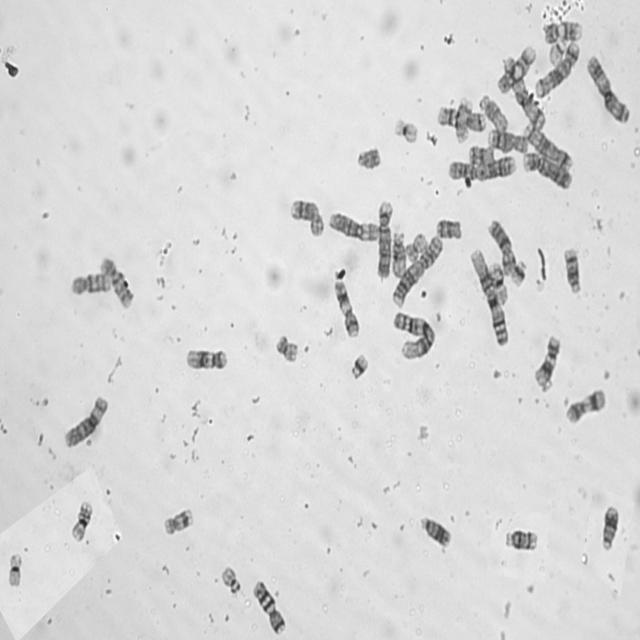A1: (468, 244, 510, 347), (390, 307, 437, 361)
A2: (390, 233, 444, 308), (446, 153, 518, 183)
A3: (501, 53, 547, 132), (584, 52, 632, 125)
B4: (521, 149, 574, 192), (374, 197, 395, 280)
B5: (520, 119, 574, 174), (533, 39, 581, 99)
C10: (98, 253, 135, 309), (69, 269, 113, 296)
C11: (564, 384, 608, 426), (332, 277, 361, 340)
C12: (532, 332, 562, 391), (183, 345, 229, 371)
C6: (62, 392, 109, 449), (328, 208, 380, 242)
C7: (250, 576, 288, 636), (435, 104, 488, 133)
C8: (288, 196, 324, 237), (486, 124, 530, 154)
C9: (495, 41, 537, 95), (540, 16, 582, 45)
D13: (417, 510, 453, 549), (600, 505, 622, 551)
D14: (562, 244, 583, 296), (502, 524, 540, 552)
D15: (476, 91, 509, 132), (389, 226, 408, 279)
E16: (68, 495, 96, 544), (487, 258, 509, 306)
E17: (161, 504, 194, 537), (454, 97, 474, 145)
E18: (465, 142, 498, 167), (434, 216, 464, 242)
F19: (391, 113, 420, 145), (5, 547, 25, 589)
F20: (273, 330, 300, 365), (403, 229, 429, 265)
G21: (348, 349, 370, 381), (509, 256, 529, 288)
G22: (219, 562, 242, 596), (546, 34, 568, 68)
X: (485, 216, 516, 277)
Y: (355, 143, 382, 171)
